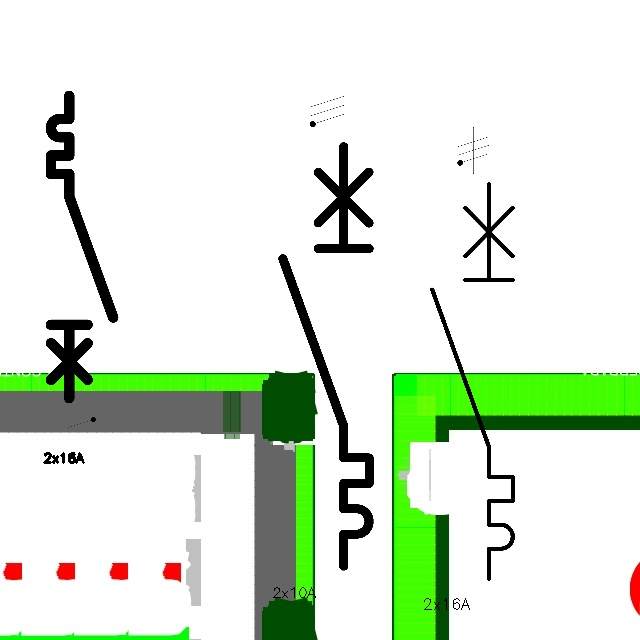interruptor_termomagnetico: (272, 135, 380, 576), (422, 173, 523, 588), (43, 88, 120, 406)
